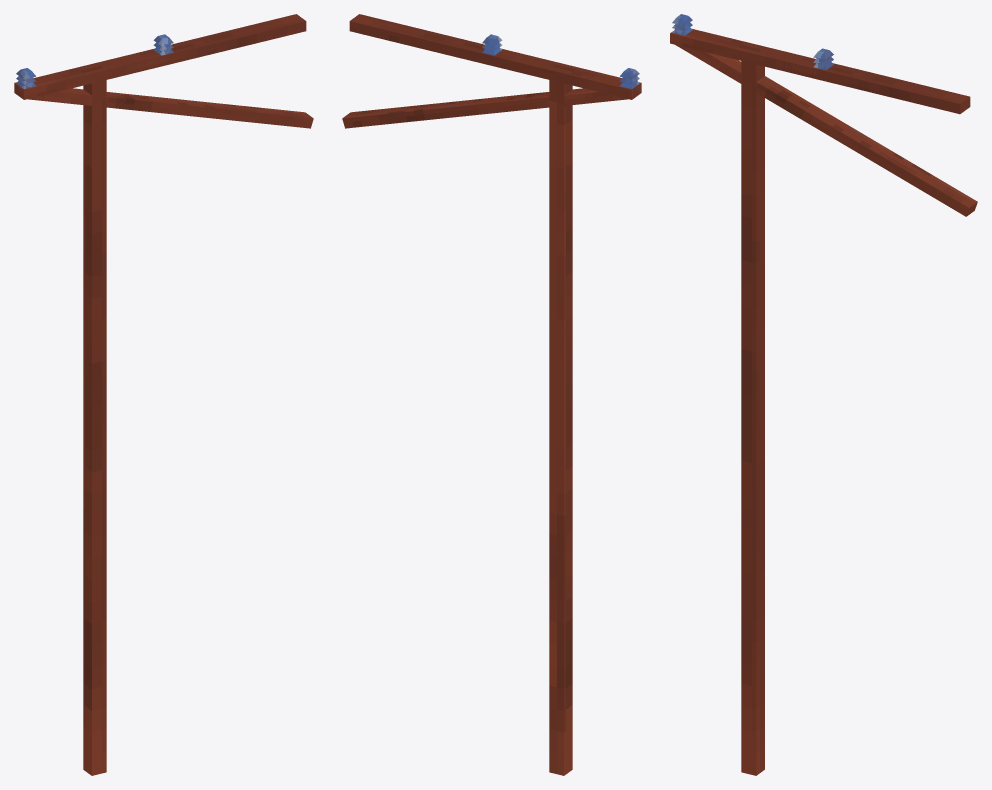
File: lvl_race_tpol.glb
The picture shows the model from 3 angles, left to right: view 1: azimuth 30°, elevation 25°; view 2: azimuth 150°, elevation 25°; view 3: azimuth 330°, elevation 25°; orthographic projection. The views are drawn at different scales.
Visible parts, largest first — view 1: polV, polH; view 2: polV, polH; view 3: polV, polH.
Boxes of the visible parts, x1=… form: polV: x1=14, y1=35, x2=174, y2=775; polH: x1=14, y1=14, x2=313, y2=128; polV: x1=480, y1=37, x2=638, y2=775; polH: x1=342, y1=14, x2=641, y2=128; polV: x1=670, y1=15, x2=833, y2=775; polH: x1=670, y1=14, x2=977, y2=216.
Bounding box in the file's own units: 2.21 × 5.21 × 0.1304.
Materials: 1 (1 with a texture image).
